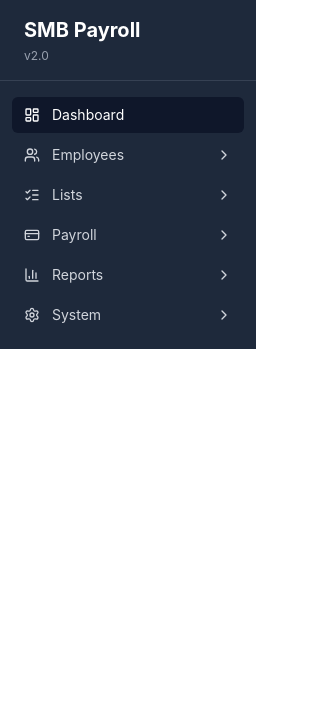
Sidebar › Navigation Links › expands multiple sections independently
Click the button with aria-label "Employees section" at [128, 155], box [12,137,244,173]
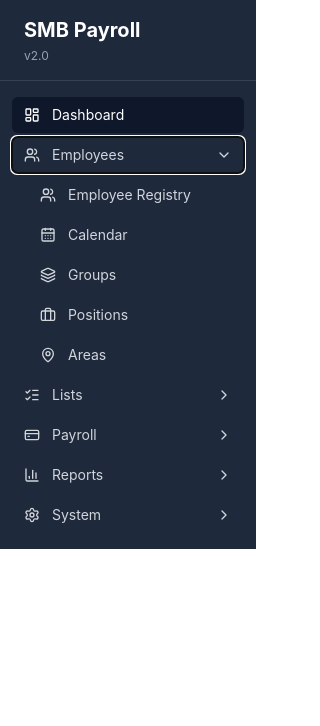
Click the button with aria-label "Payroll section" at [128, 435], box [12,417,244,453]
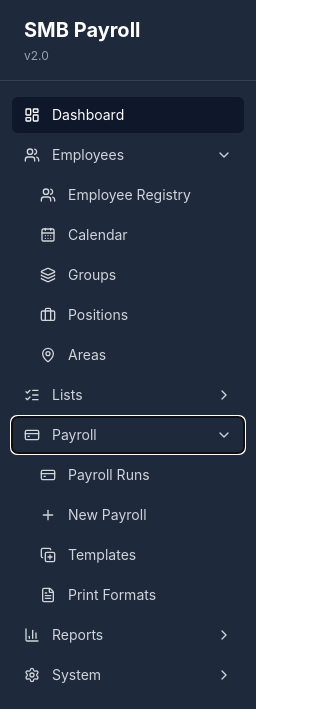
Now the text "Employee Registry" is shown, box [68,185,191,205]
Now the text "Payroll Runs" is shown, box [68,465,150,485]
Now the text "New Payroll" is shown, box [68,505,146,525]
